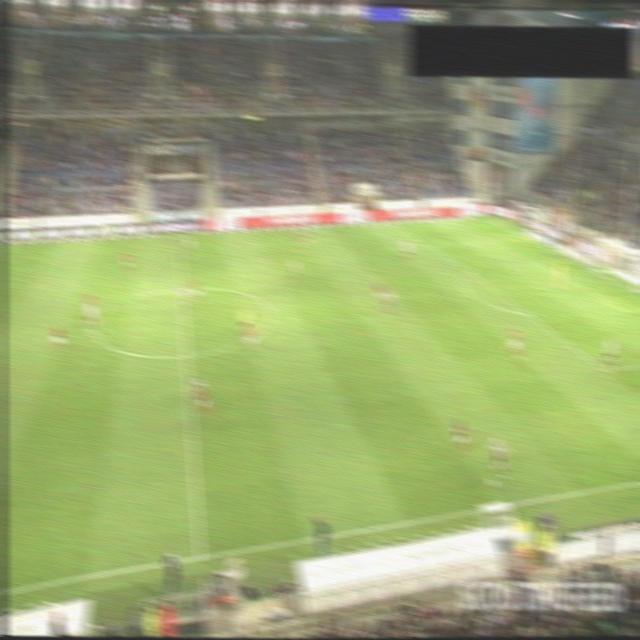bigarea_bottom_inner: (597, 363, 613, 376)
bigarea_top_inner: (423, 240, 439, 252)
bigarea_top_outter: (520, 234, 535, 246)
bottom_arc_area_intersection: (519, 308, 535, 319)
corner: (479, 214, 495, 225)
halfcircle_bottom: (178, 347, 193, 359)
halfcircle_top: (174, 281, 189, 292)
midline_bottom_intersection: (191, 548, 209, 564)
midline_top_intersection: (169, 229, 185, 241)
smallarea_bottom_inner: (618, 307, 634, 318)
smallarea_top_inner: (530, 256, 545, 268)
smallarea_top_outter: (562, 254, 578, 265)
top_arc_area_intersection: (461, 266, 477, 277)
